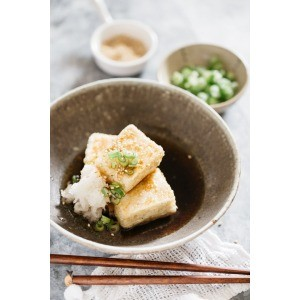tofu_brain food: (90, 129, 176, 229)
